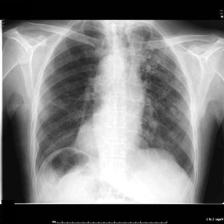tuberculosis: (33, 22, 197, 182)
